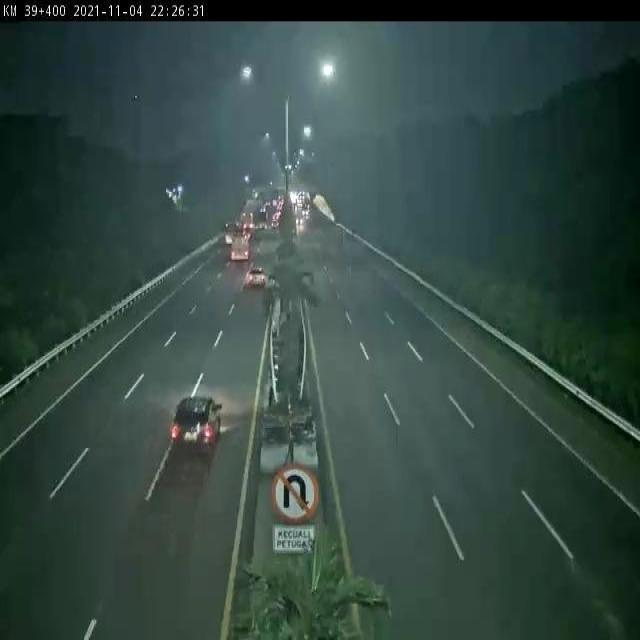ARABA: (171, 371, 225, 472), (242, 260, 269, 300)
